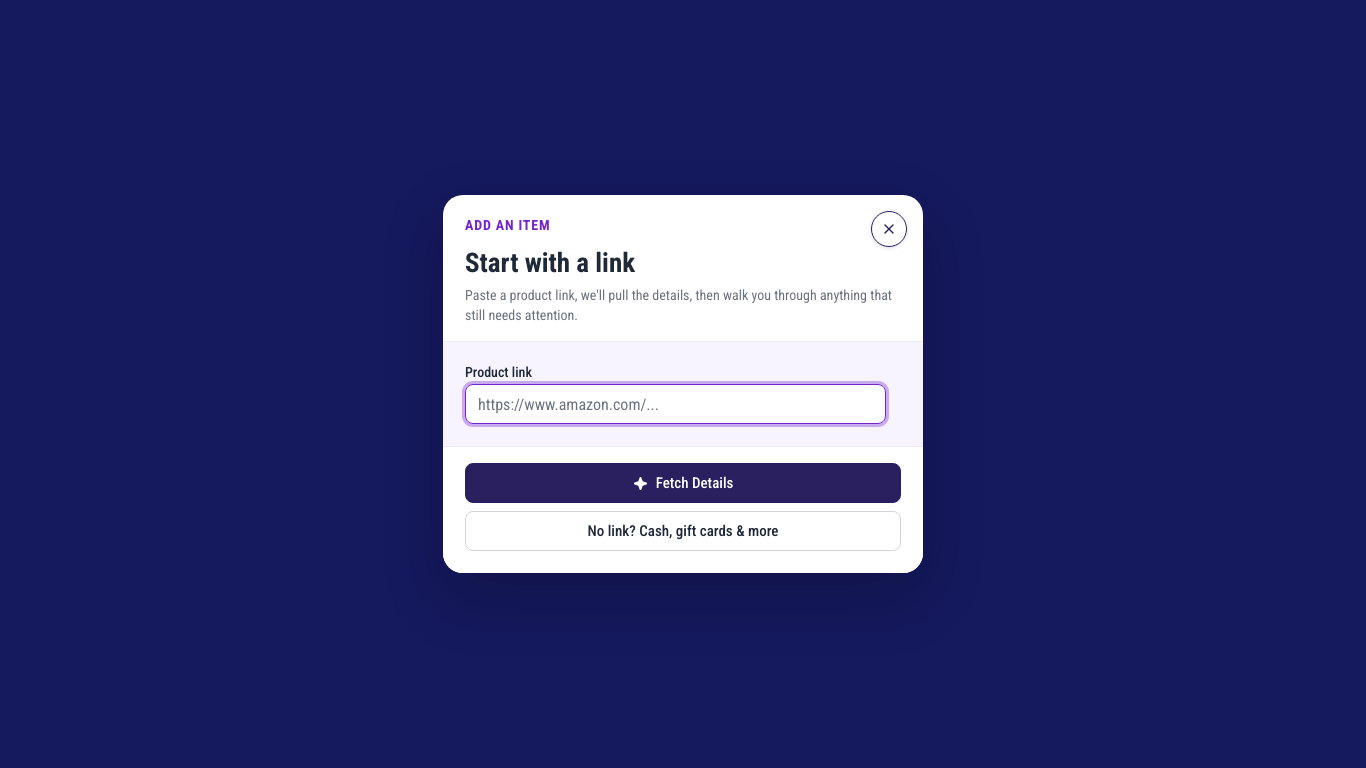
Test case: ItemFormContainer › LinklessDoor › DoorAfterFailedFetch_ShedsStaleUrl-NoIntroNoSourceLink
Type "https://www.amazon.com/dp/B0TEST" into the field labelled "Product link" at (676, 404), box [478, 385, 873, 423]
Click the button "Fetch Details" at (683, 483), box [465, 463, 901, 503]
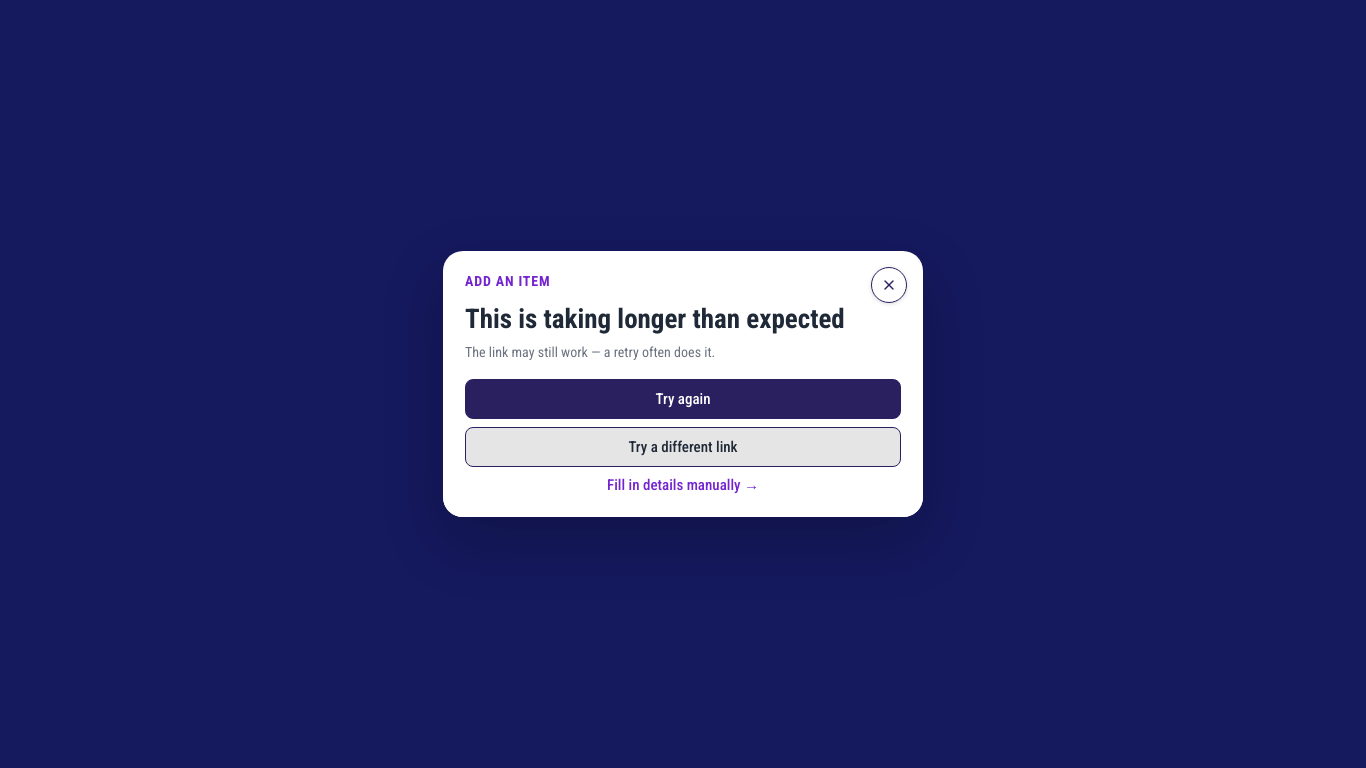
Click the button "Try a different link" at (683, 447), box [465, 427, 901, 467]
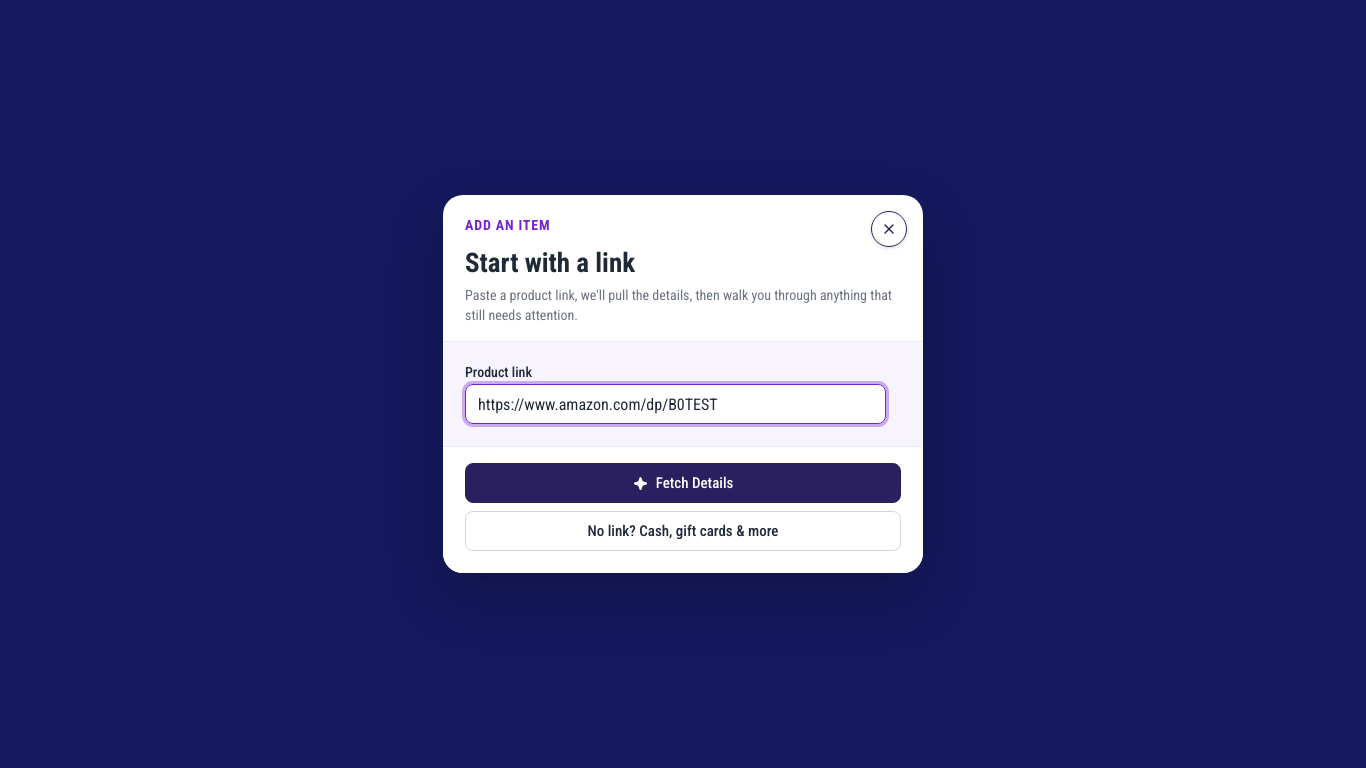
Click the button "No link? Cash, gift cards & more" at (683, 531), box [465, 511, 901, 551]
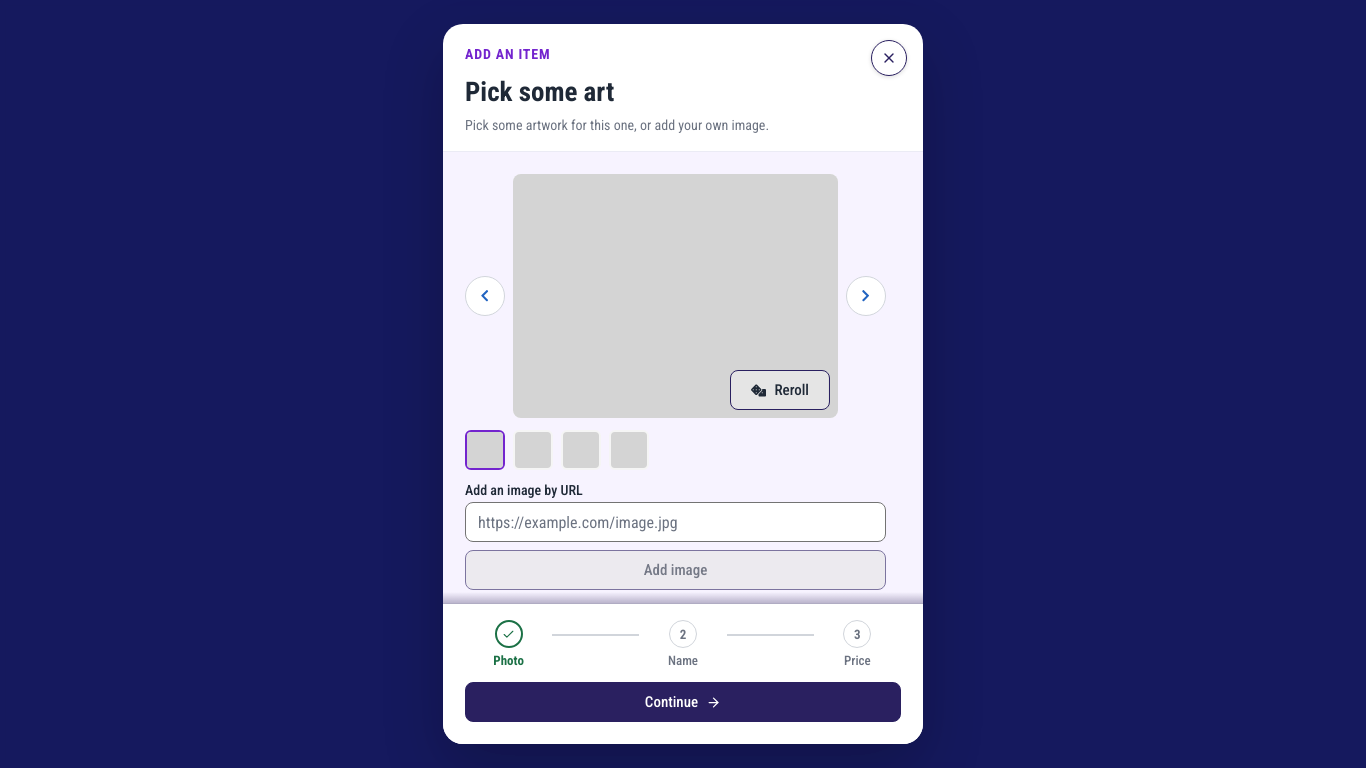
Expected: the heading "Pick some art" is shown, [465, 76, 614, 108]
Click the button "Continue" at (683, 702), box [465, 682, 901, 722]
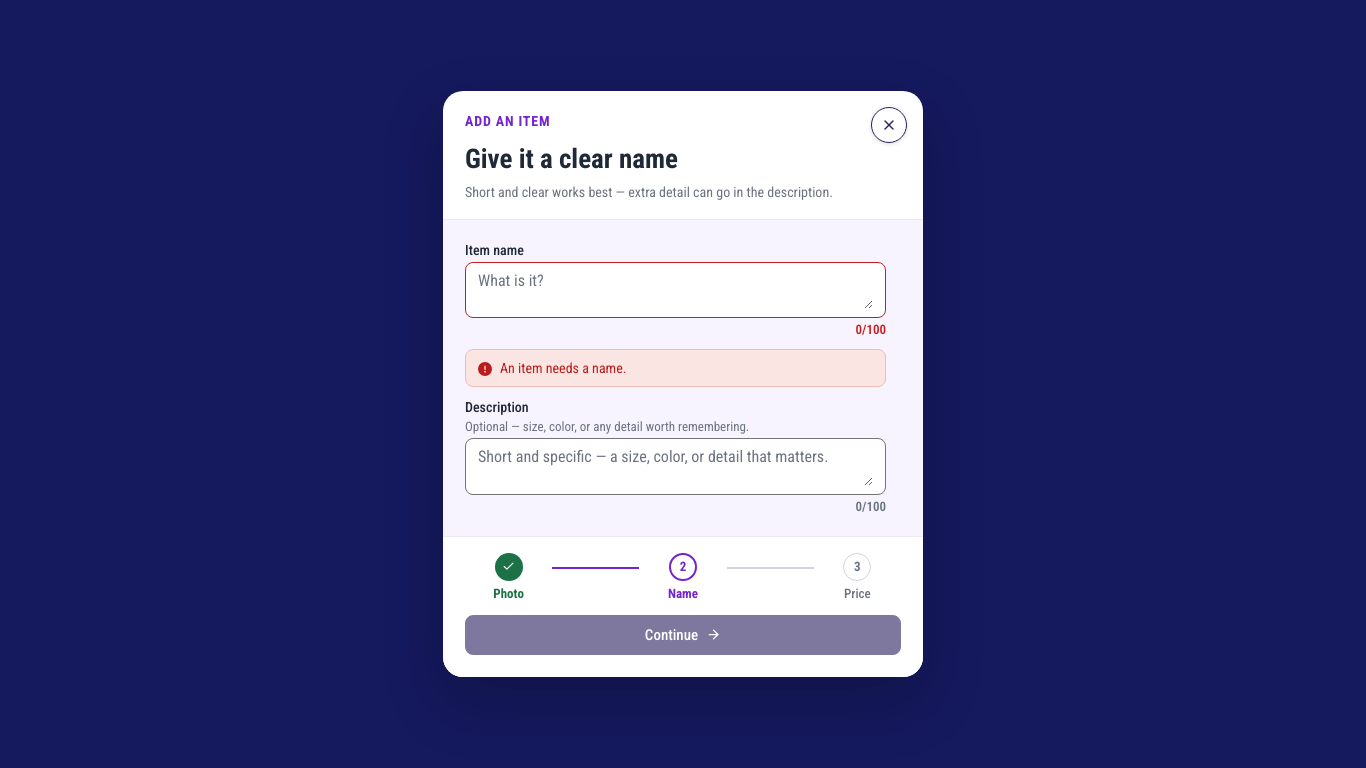
Type "Door Item" into the text box labelled "Item name" at (676, 290), box [478, 271, 873, 309]
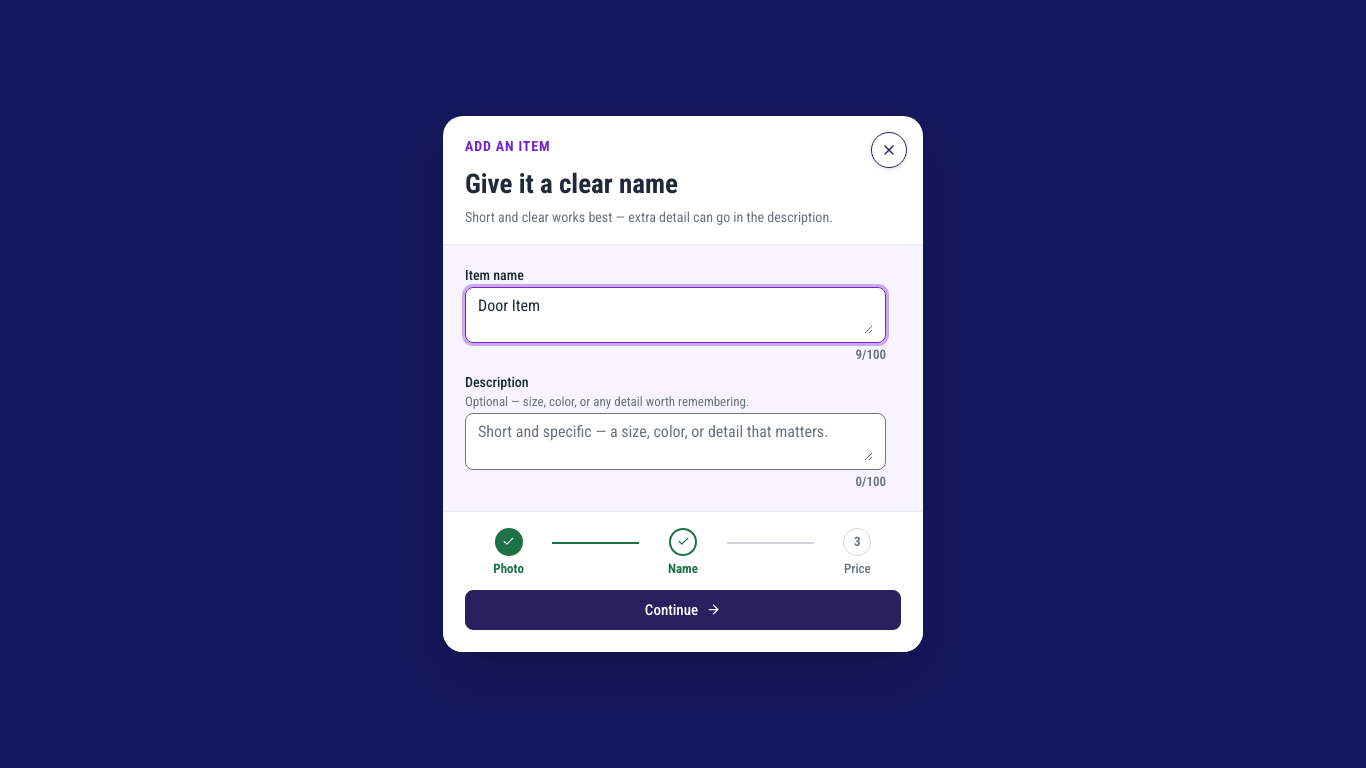
Click the button "Continue" at (683, 610), box [465, 590, 901, 630]
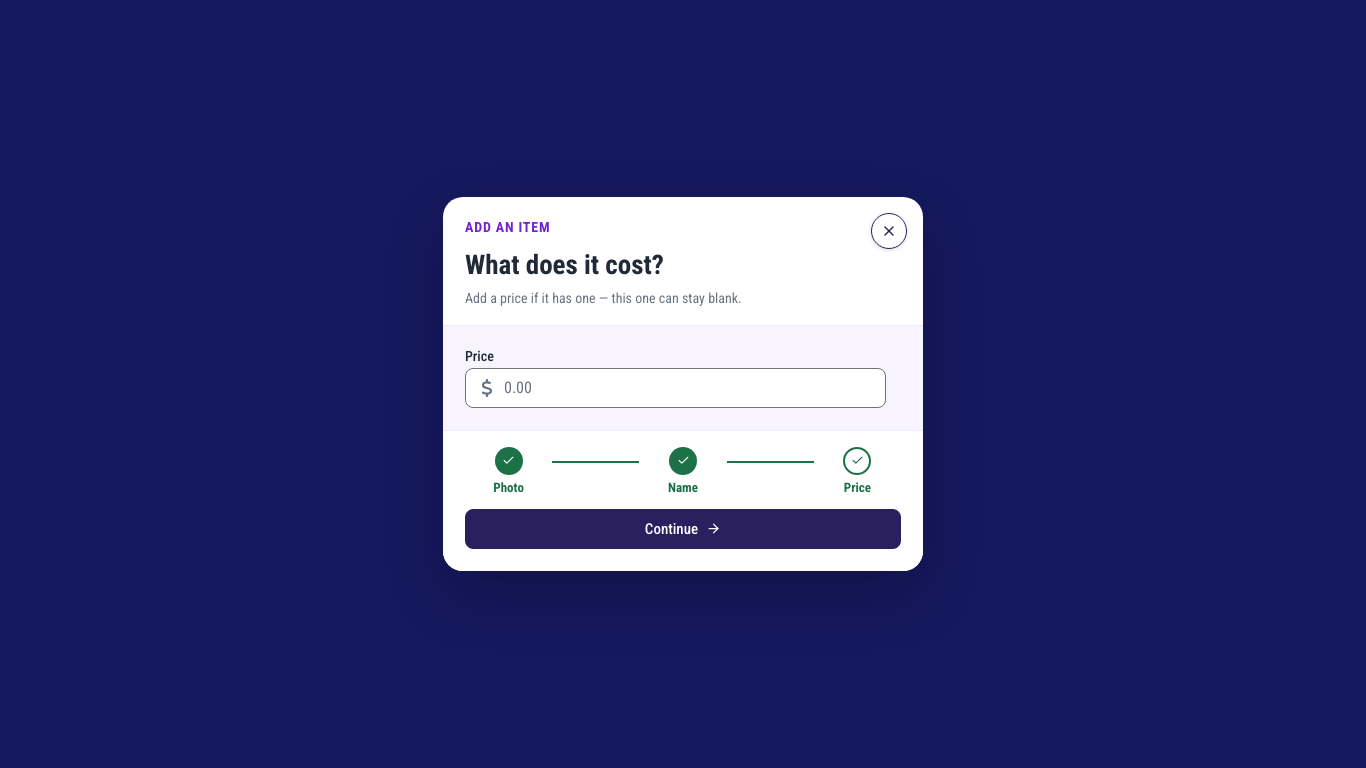
Expected: the heading "What does it cost?" is shown, [465, 249, 664, 281]
